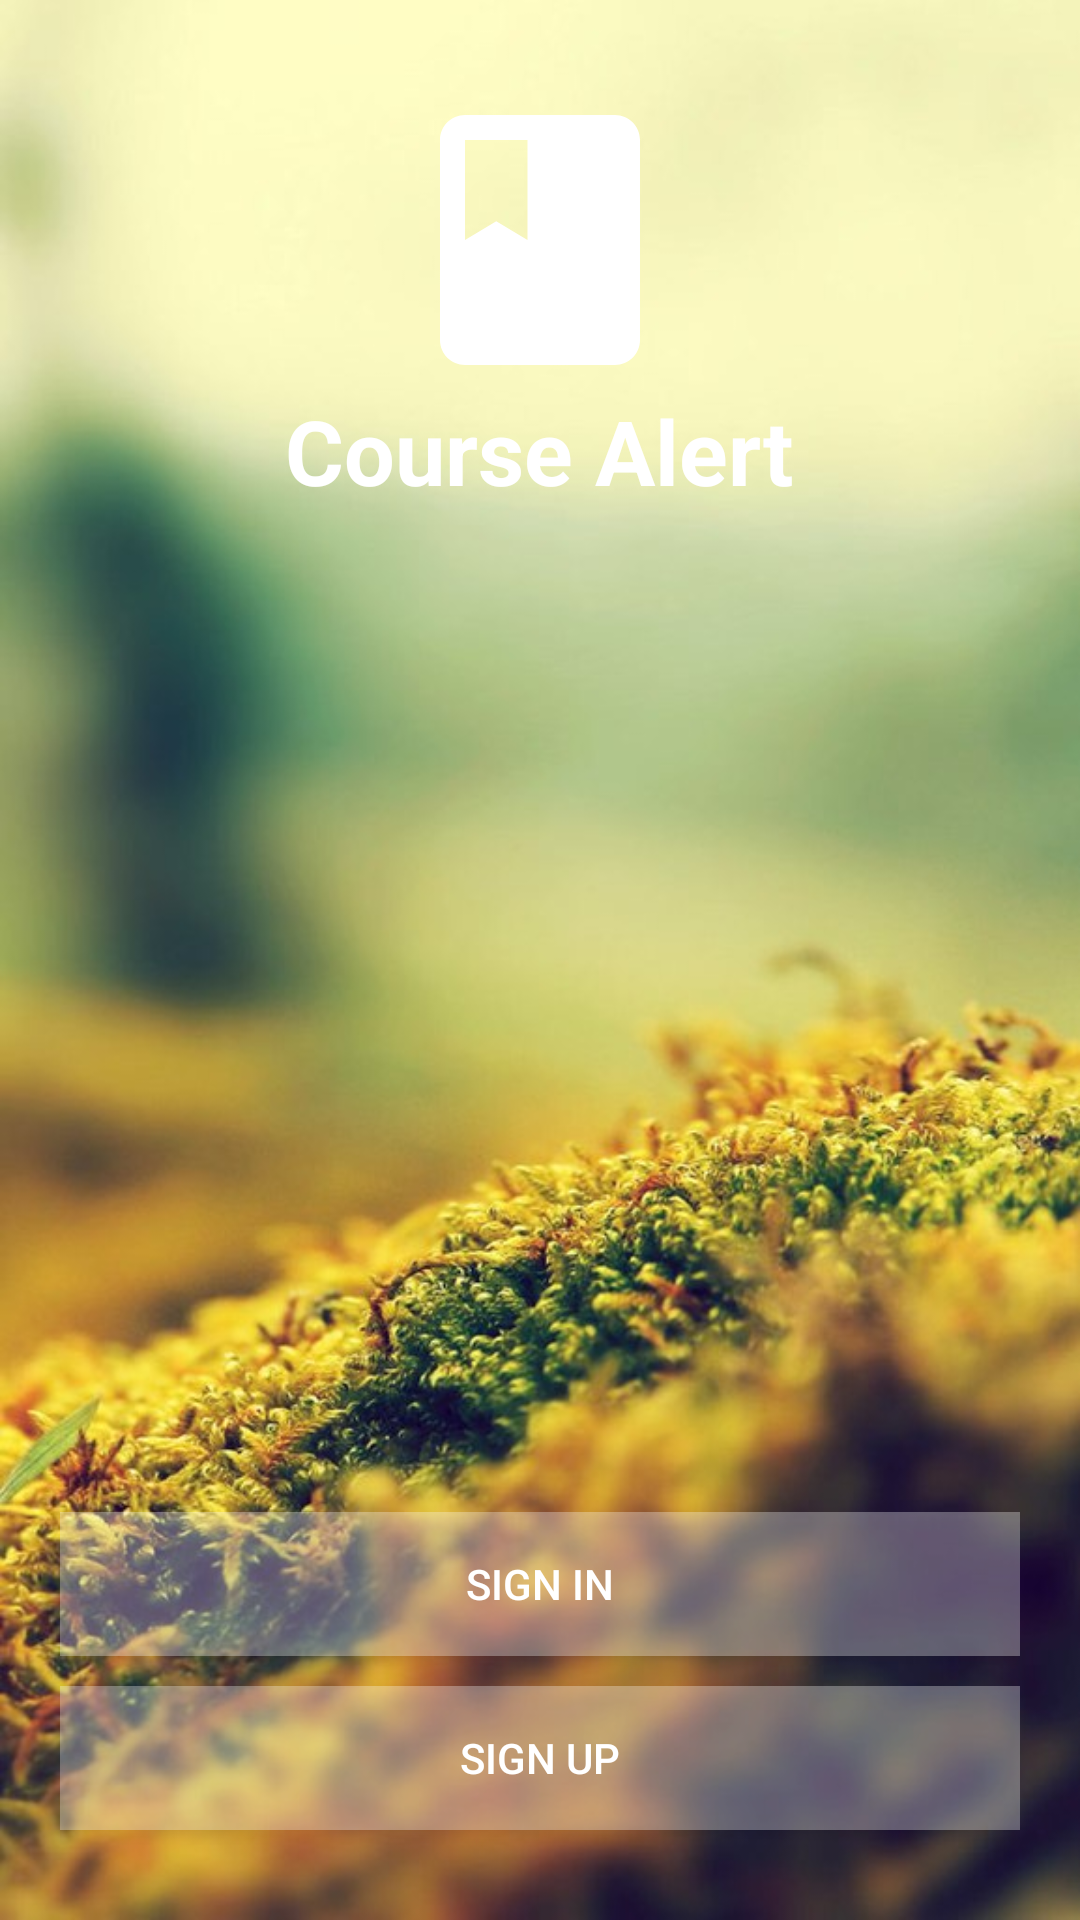

Locate icon controls on the screen. Image size 1080px×1920px, boxes as (x1, y1, x2, y2).
book: (440, 115, 640, 365)
